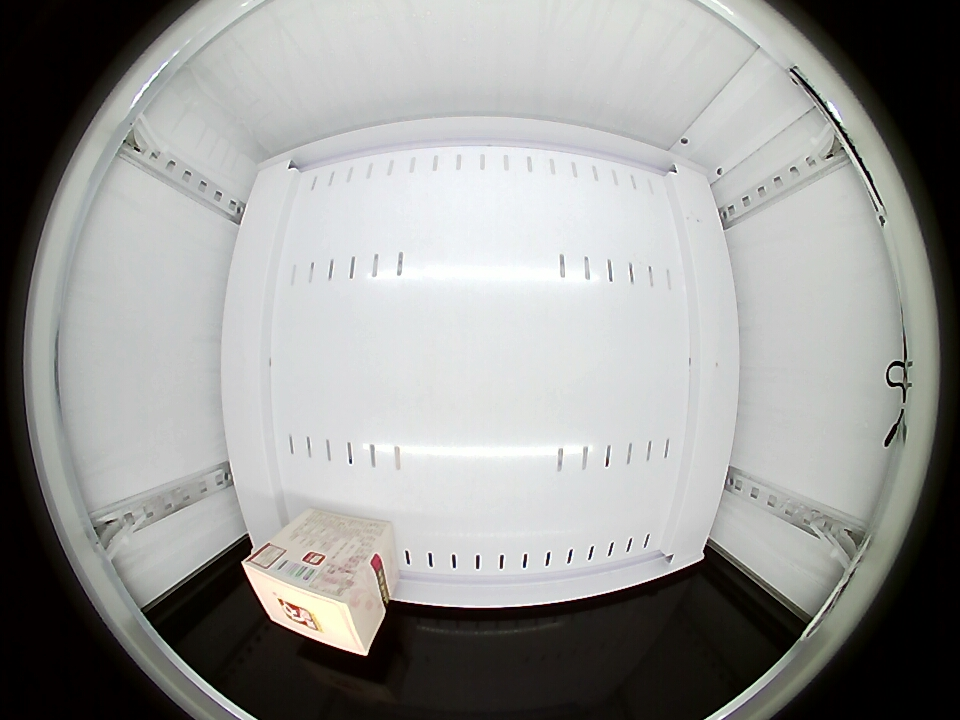rousongbing: (242, 540, 380, 657)
